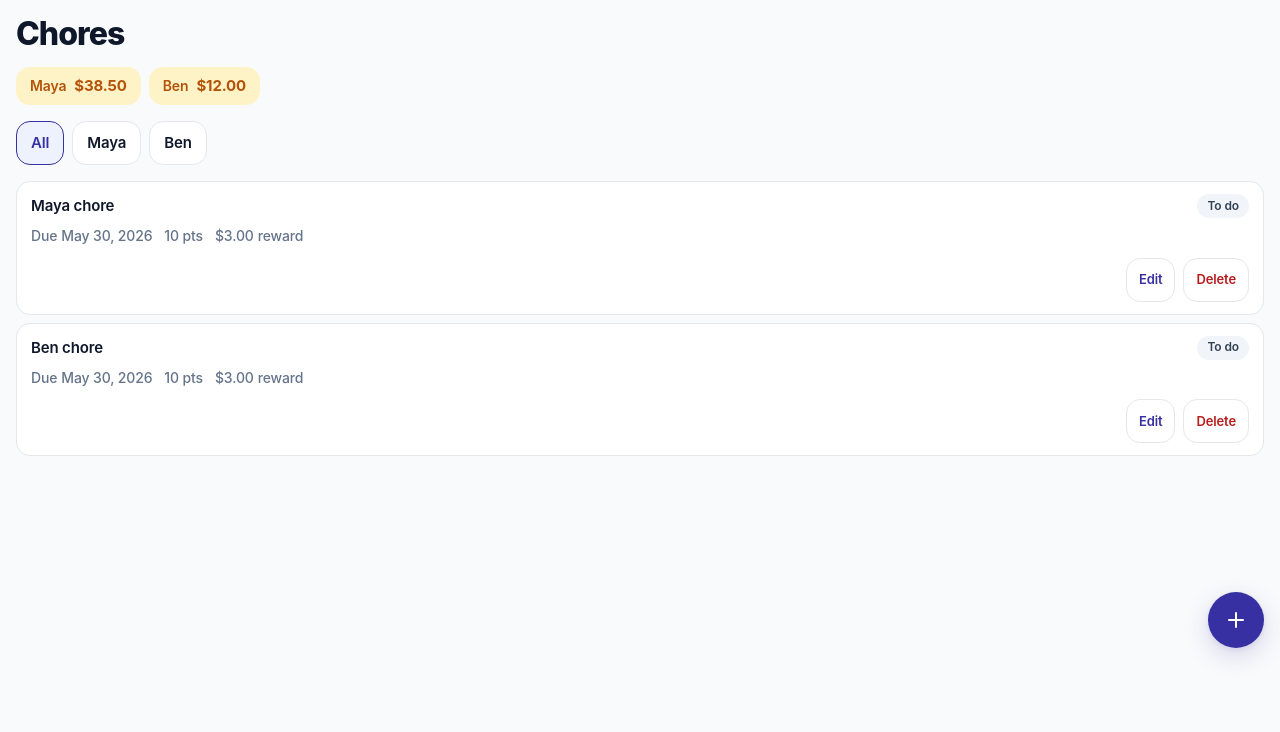
it: ChoresParentScreen — member filter tabs (dynamic; All + per-member) › selecting a member filter shows that member’s chores
This screenshot has width=1280, height=732.
Click the button "Maya" at point(107, 143), box [72,121,141,165]
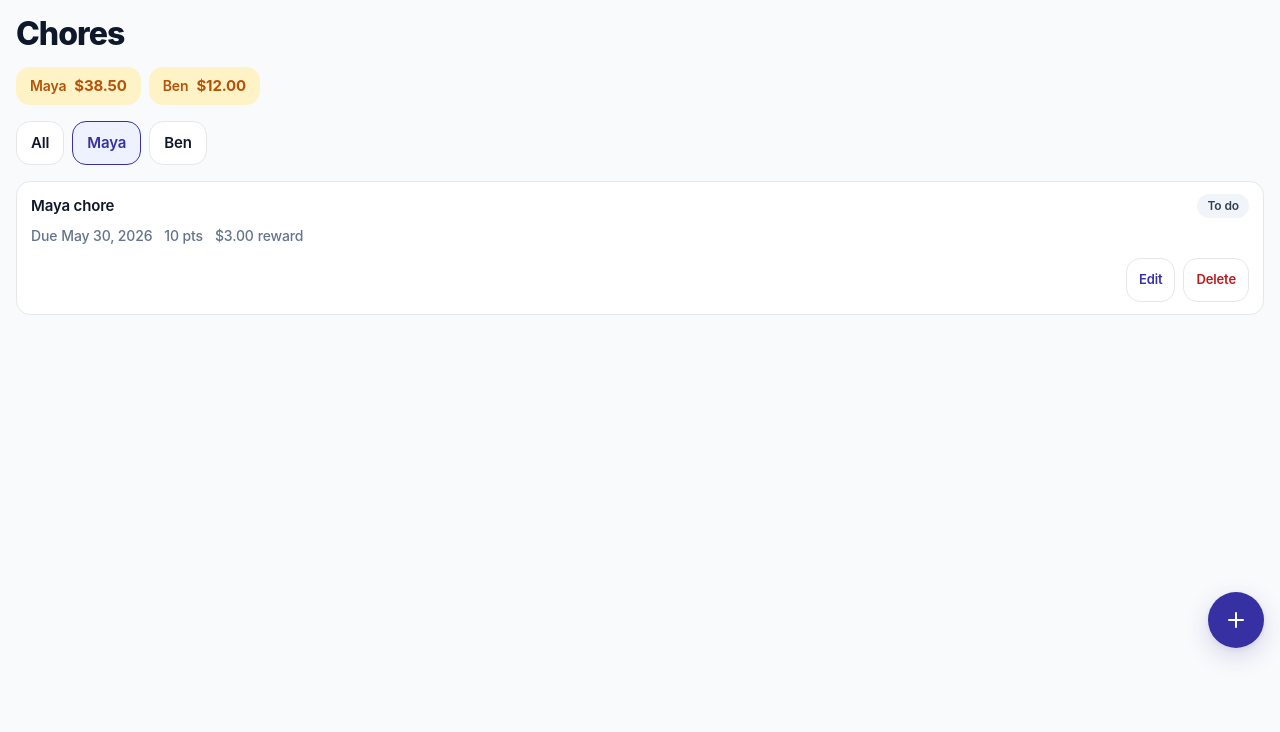
Expected: the text "Maya chore" is shown, [31,196,114,215]
Expected: the text "Ben chore" is gone
